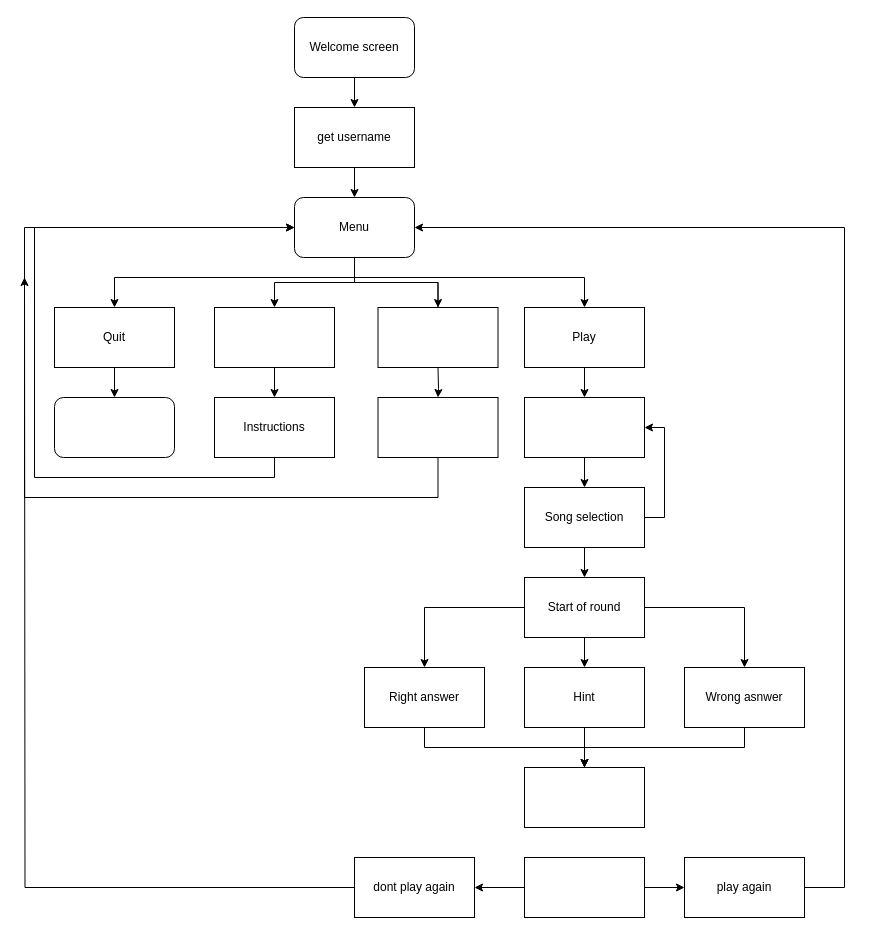
The diagram is 870 pixels wide and 935 high, and some of its shapes have lost their labels. Each missing label, with the centre of its shape:
"Abour" belongs at [437,337].
"About game" belongs at [437,427].
"exit" belongs at [114,427].
"Help" belongs at [274,337].
"n songs done" belongs at [584,797].
"play again y/n" belongs at [584,887].
"Year selection" belongs at [584,427].
